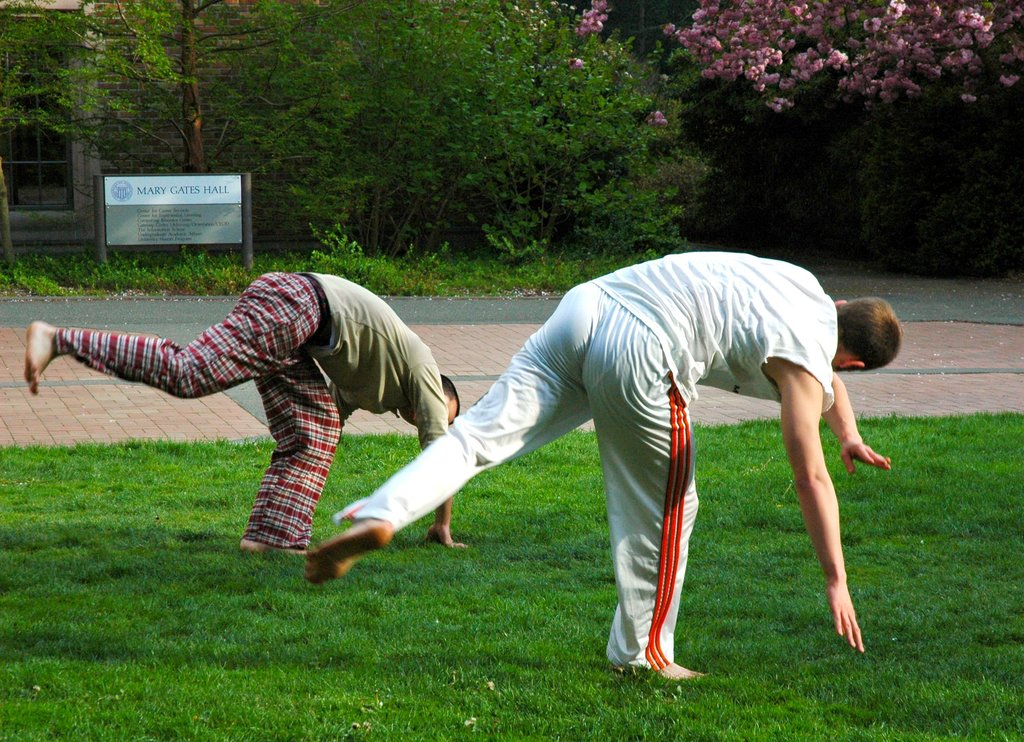Person: (303, 251, 903, 678), (22, 270, 463, 556)
